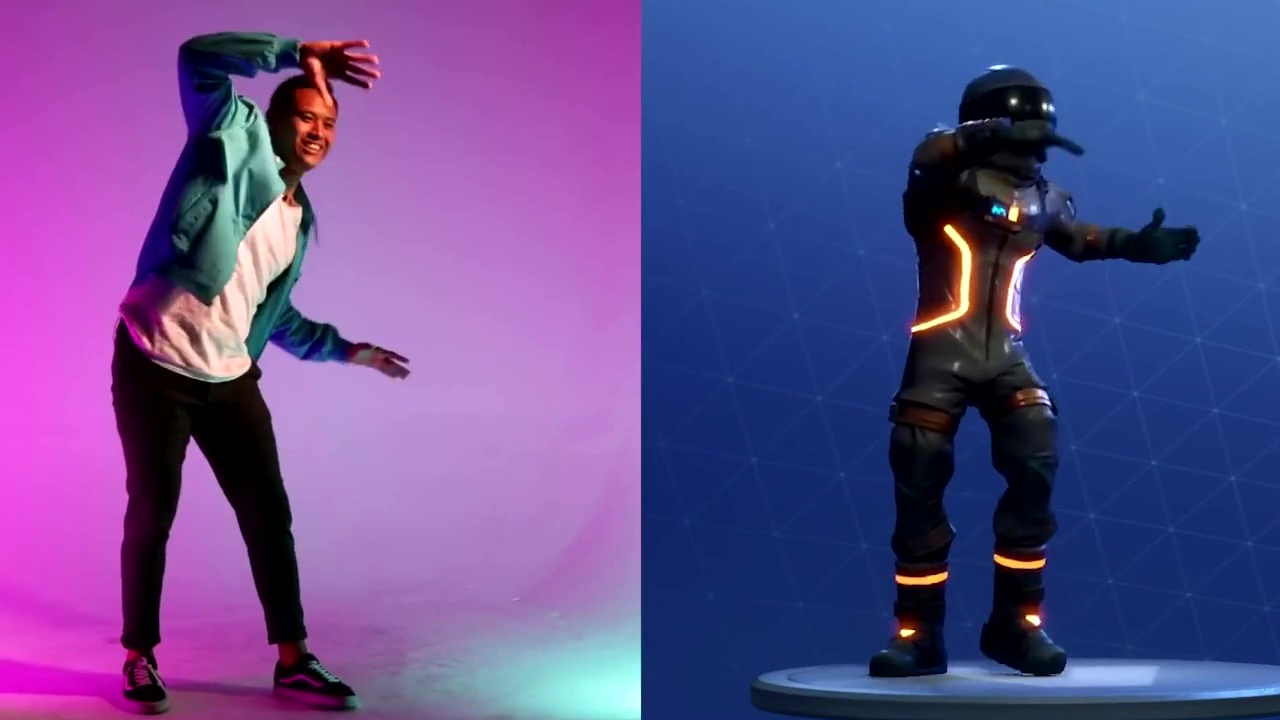Hip: (136, 324, 261, 375)
LeftAnkle: (257, 633, 362, 702)
LeftKnee: (219, 485, 317, 550)
LeftWrist: (343, 322, 417, 406)
RightAnkle: (106, 621, 183, 703)
RightElbow: (168, 12, 243, 91)
RightKnee: (94, 460, 193, 557)
RightWrist: (289, 22, 384, 111)
Torso: (197, 177, 274, 329)
